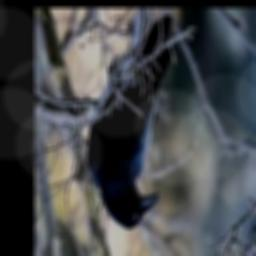Crow: (87, 14, 175, 230)
